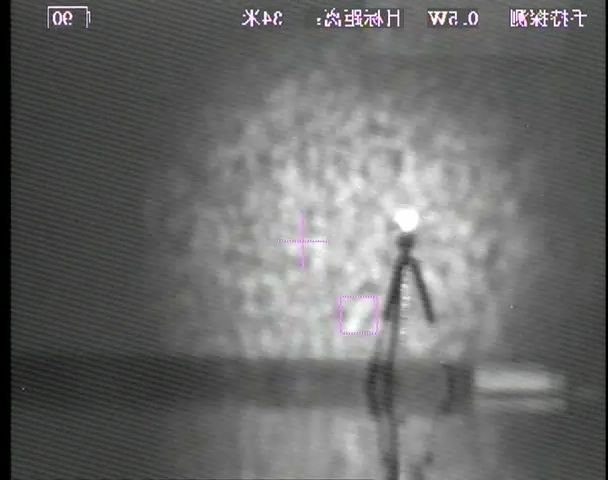my: (393, 204, 420, 236)
